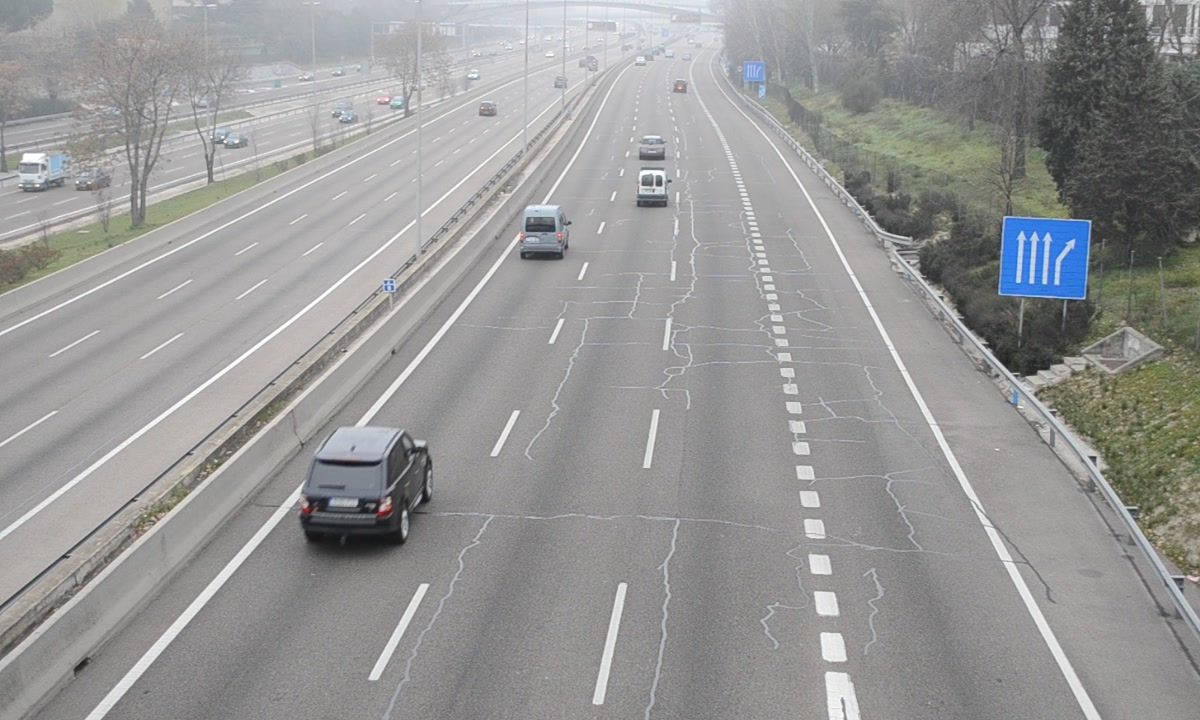car: (301, 427, 434, 537), (635, 134, 666, 161)
van: (519, 204, 571, 255), (635, 168, 668, 206)
